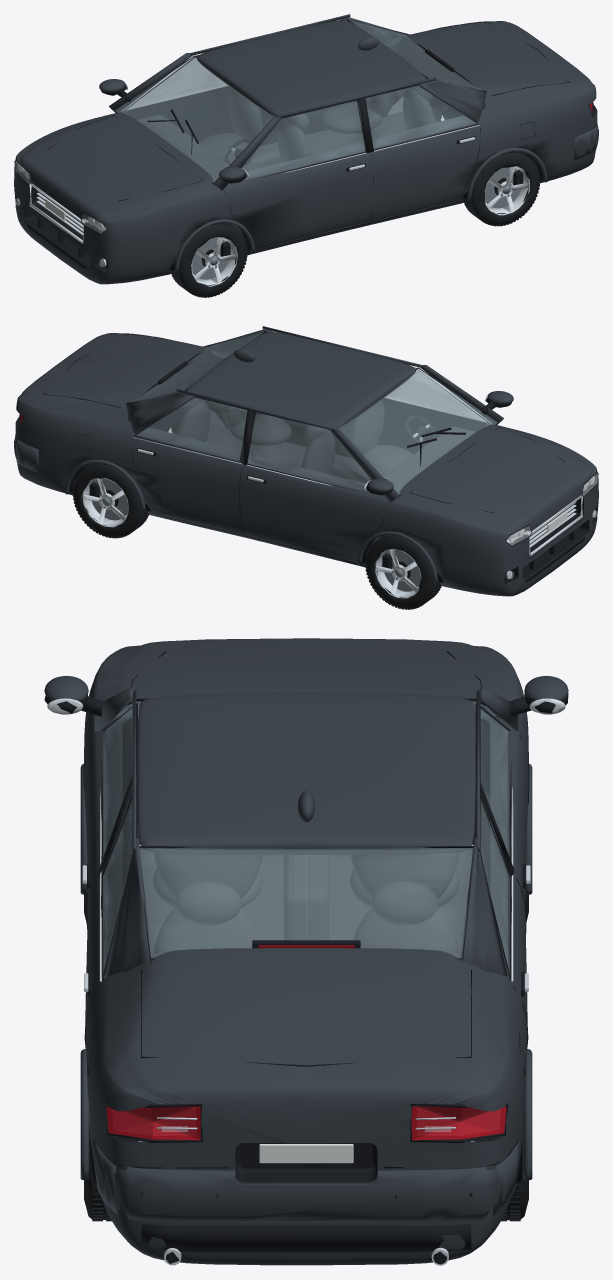
Rendered from graphite-sedan.glb.
3 views of the same model, one above another, from view 1: azimuth 30°, elevation 25°; view 2: azimuth 150°, elevation 25°; view 3: azimuth 270°, elevation 25° (orthographic). The views are drawn at different scales.
Parts seen in each view (by area): view 1: Aerodynamic mirror painted cap, Front side door glass, Aerodynamic mirror lower housing, Adjustable headrest, 107 reused Sculpted_tyre, 107 reused Alloy_five_spoke_rim, 107 reused Center_cap, Clear reversing lens insert; view 2: Aerodynamic mirror painted cap, Front side door glass, Aerodynamic mirror lower housing, Adjustable headrest, 107 reused Sculpted_tyre, 107 reused Alloy_five_spoke_rim, 107 reused Center_cap, Clear reversing lens insert; view 3: Aerodynamic mirror painted cap, Front side door glass, Adjustable headrest, Aerodynamic mirror lower housing, Flush corner wrapping ruby lamp lens, 107 reused Sculpted_tyre, 107 reused Alloy_five_spoke_rim, Front license plate.
Boxes of the visible parts, x1=… form: Aerodynamic mirror painted cap: x1=14, y1=14, x2=598, y2=284; Front side door glass: x1=115, y1=20, x2=481, y2=184; Aerodynamic mirror lower housing: x1=14, y1=18, x2=598, y2=271; Adjustable headrest: x1=137, y1=85, x2=435, y2=239; 107 reused Sculpted_tyre: x1=171, y1=88, x2=540, y2=297; 107 reused Alloy_five_spoke_rim: x1=17, y1=79, x2=529, y2=286; 107 reused Center_cap: x1=192, y1=98, x2=530, y2=279; Clear reversing lens insert: x1=15, y1=161, x2=106, y2=266; Aerodynamic mirror painted cap: x1=14, y1=326, x2=598, y2=596; Front side door glass: x1=132, y1=332, x2=497, y2=496; Aerodynamic mirror lower housing: x1=14, y1=330, x2=598, y2=583; Adjustable headrest: x1=177, y1=397, x2=475, y2=544; 107 reused Sculpted_tyre: x1=72, y1=400, x2=441, y2=609; 107 reused Alloy_five_spoke_rim: x1=82, y1=391, x2=595, y2=598; 107 reused Center_cap: x1=82, y1=410, x2=420, y2=591; Clear reversing lens insert: x1=506, y1=473, x2=597, y2=578; Aerodynamic mirror painted cap: x1=44, y1=638, x2=568, y2=1265; Front side door glass: x1=103, y1=701, x2=509, y2=975; Adjustable headrest: x1=136, y1=780, x2=476, y2=954; Aerodynamic mirror lower housing: x1=44, y1=651, x2=568, y2=1264; Flush corner wrapping ruby lamp lens: x1=106, y1=945, x2=506, y2=1140; 107 reused Sculpted_tyre: x1=84, y1=791, x2=528, y2=1221; 107 reused Alloy_five_spoke_rim: x1=47, y1=698, x2=565, y2=1265; Front license plate: x1=259, y1=1144, x2=353, y2=1163.
Bounding box in the file's own units: 4.84 × 1.55 × 2.17.
10 materials, 10 textured.
